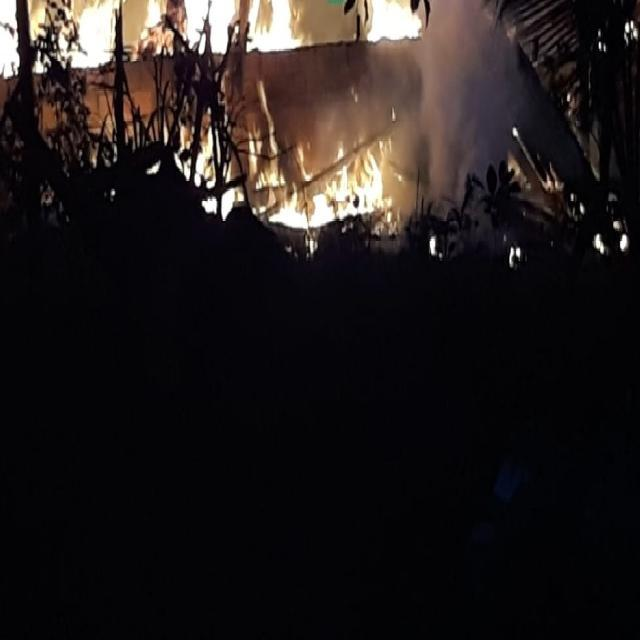Fire: (28, 0, 116, 67), (136, 0, 238, 53), (195, 111, 244, 216), (336, 143, 388, 224), (247, 0, 312, 50), (249, 82, 280, 184), (269, 179, 335, 225), (363, 0, 425, 42), (0, 0, 20, 73), (147, 122, 169, 172), (176, 124, 192, 177), (298, 138, 312, 179)
Smoke: (420, 1, 516, 213), (330, 46, 420, 142)
